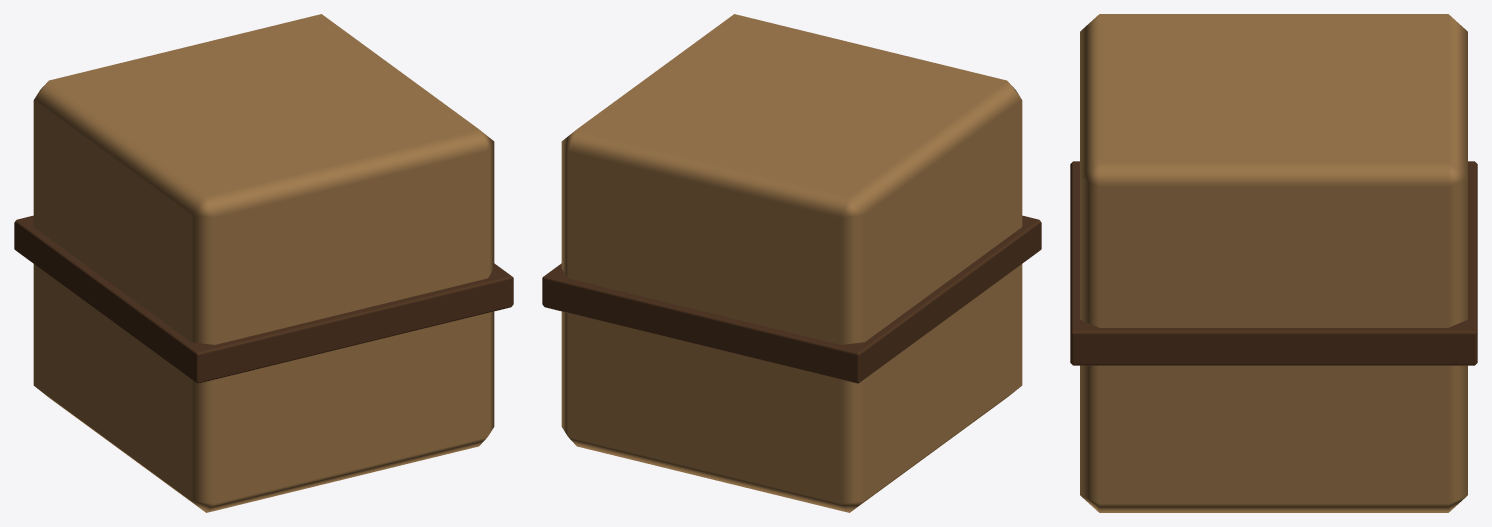
File: crate.adfdc570.glb
3 views of the same model, side by side, from view 1: azimuth 30°, elevation 25°; view 2: azimuth 150°, elevation 25°; view 3: azimuth 270°, elevation 25° (orthographic). The views are drawn at different scales.
Parts seen in each view (by area): view 1: body; view 2: body; view 3: body.
Boxes of the visible parts, <box> form: body: <box>14,14,513,512</box>; body: <box>542,14,1041,512</box>; body: <box>1070,14,1477,512</box>.
Bounding box in the file's own units: 0.84 × 0.8 × 0.84.
